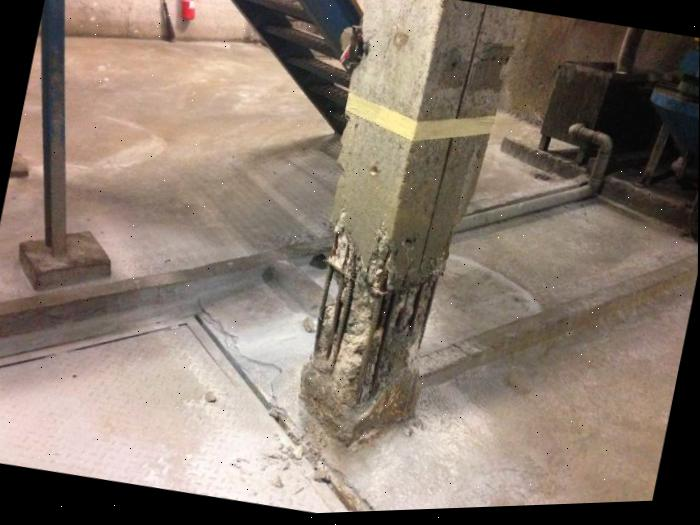spalling: (310, 206, 444, 437)
